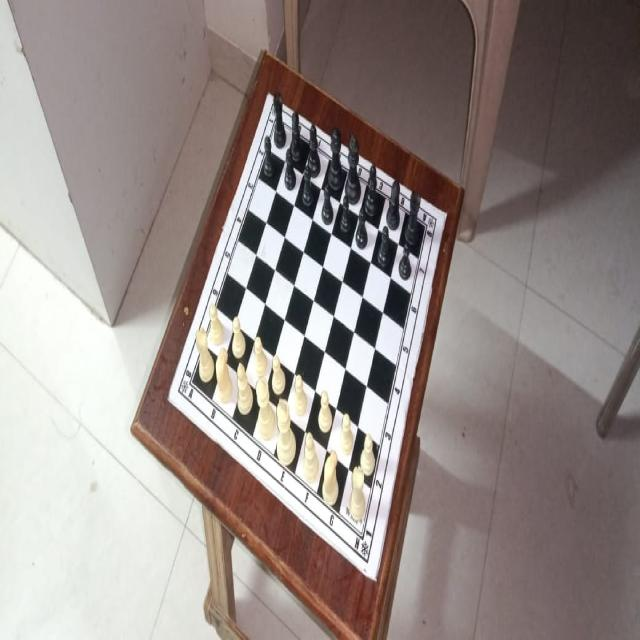corners: (163, 385, 175, 408), (368, 564, 378, 591), (442, 201, 452, 226), (265, 86, 275, 105)
